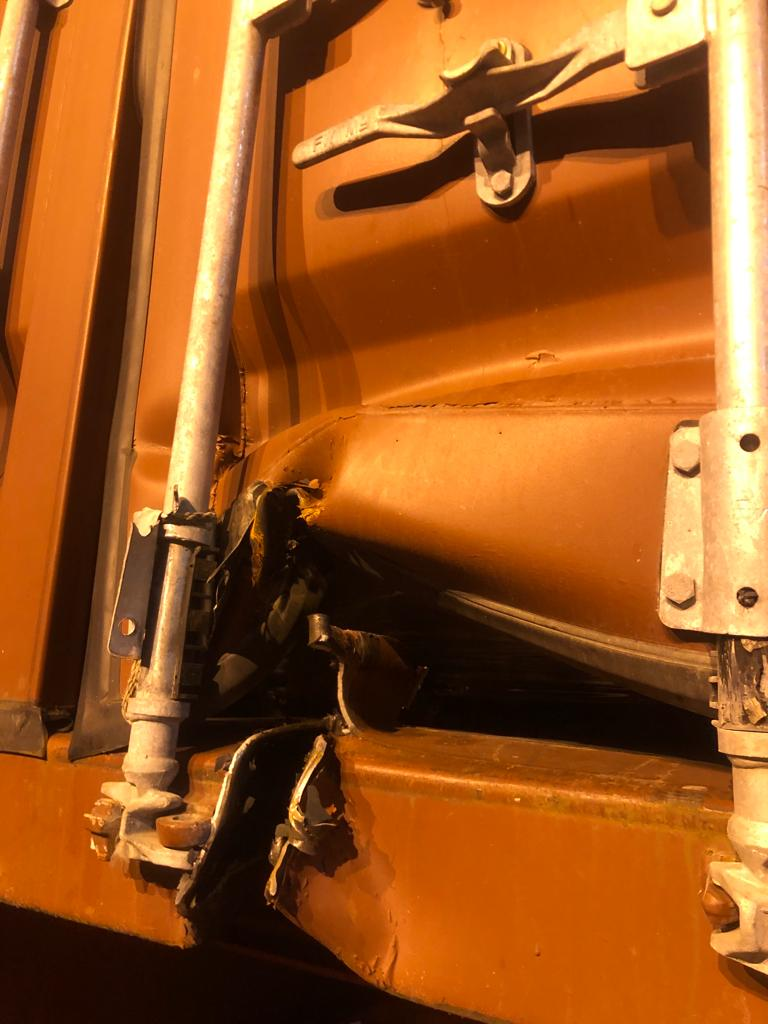moderate: (97, 389, 741, 932)
